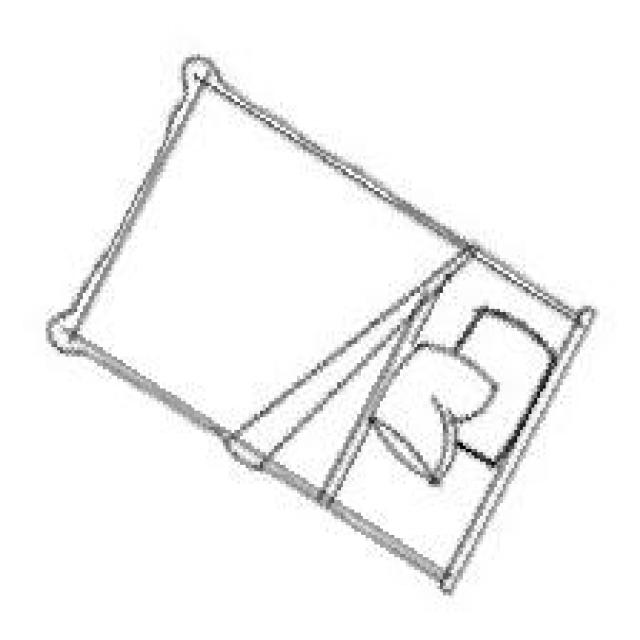bed: (46, 54, 591, 592)
